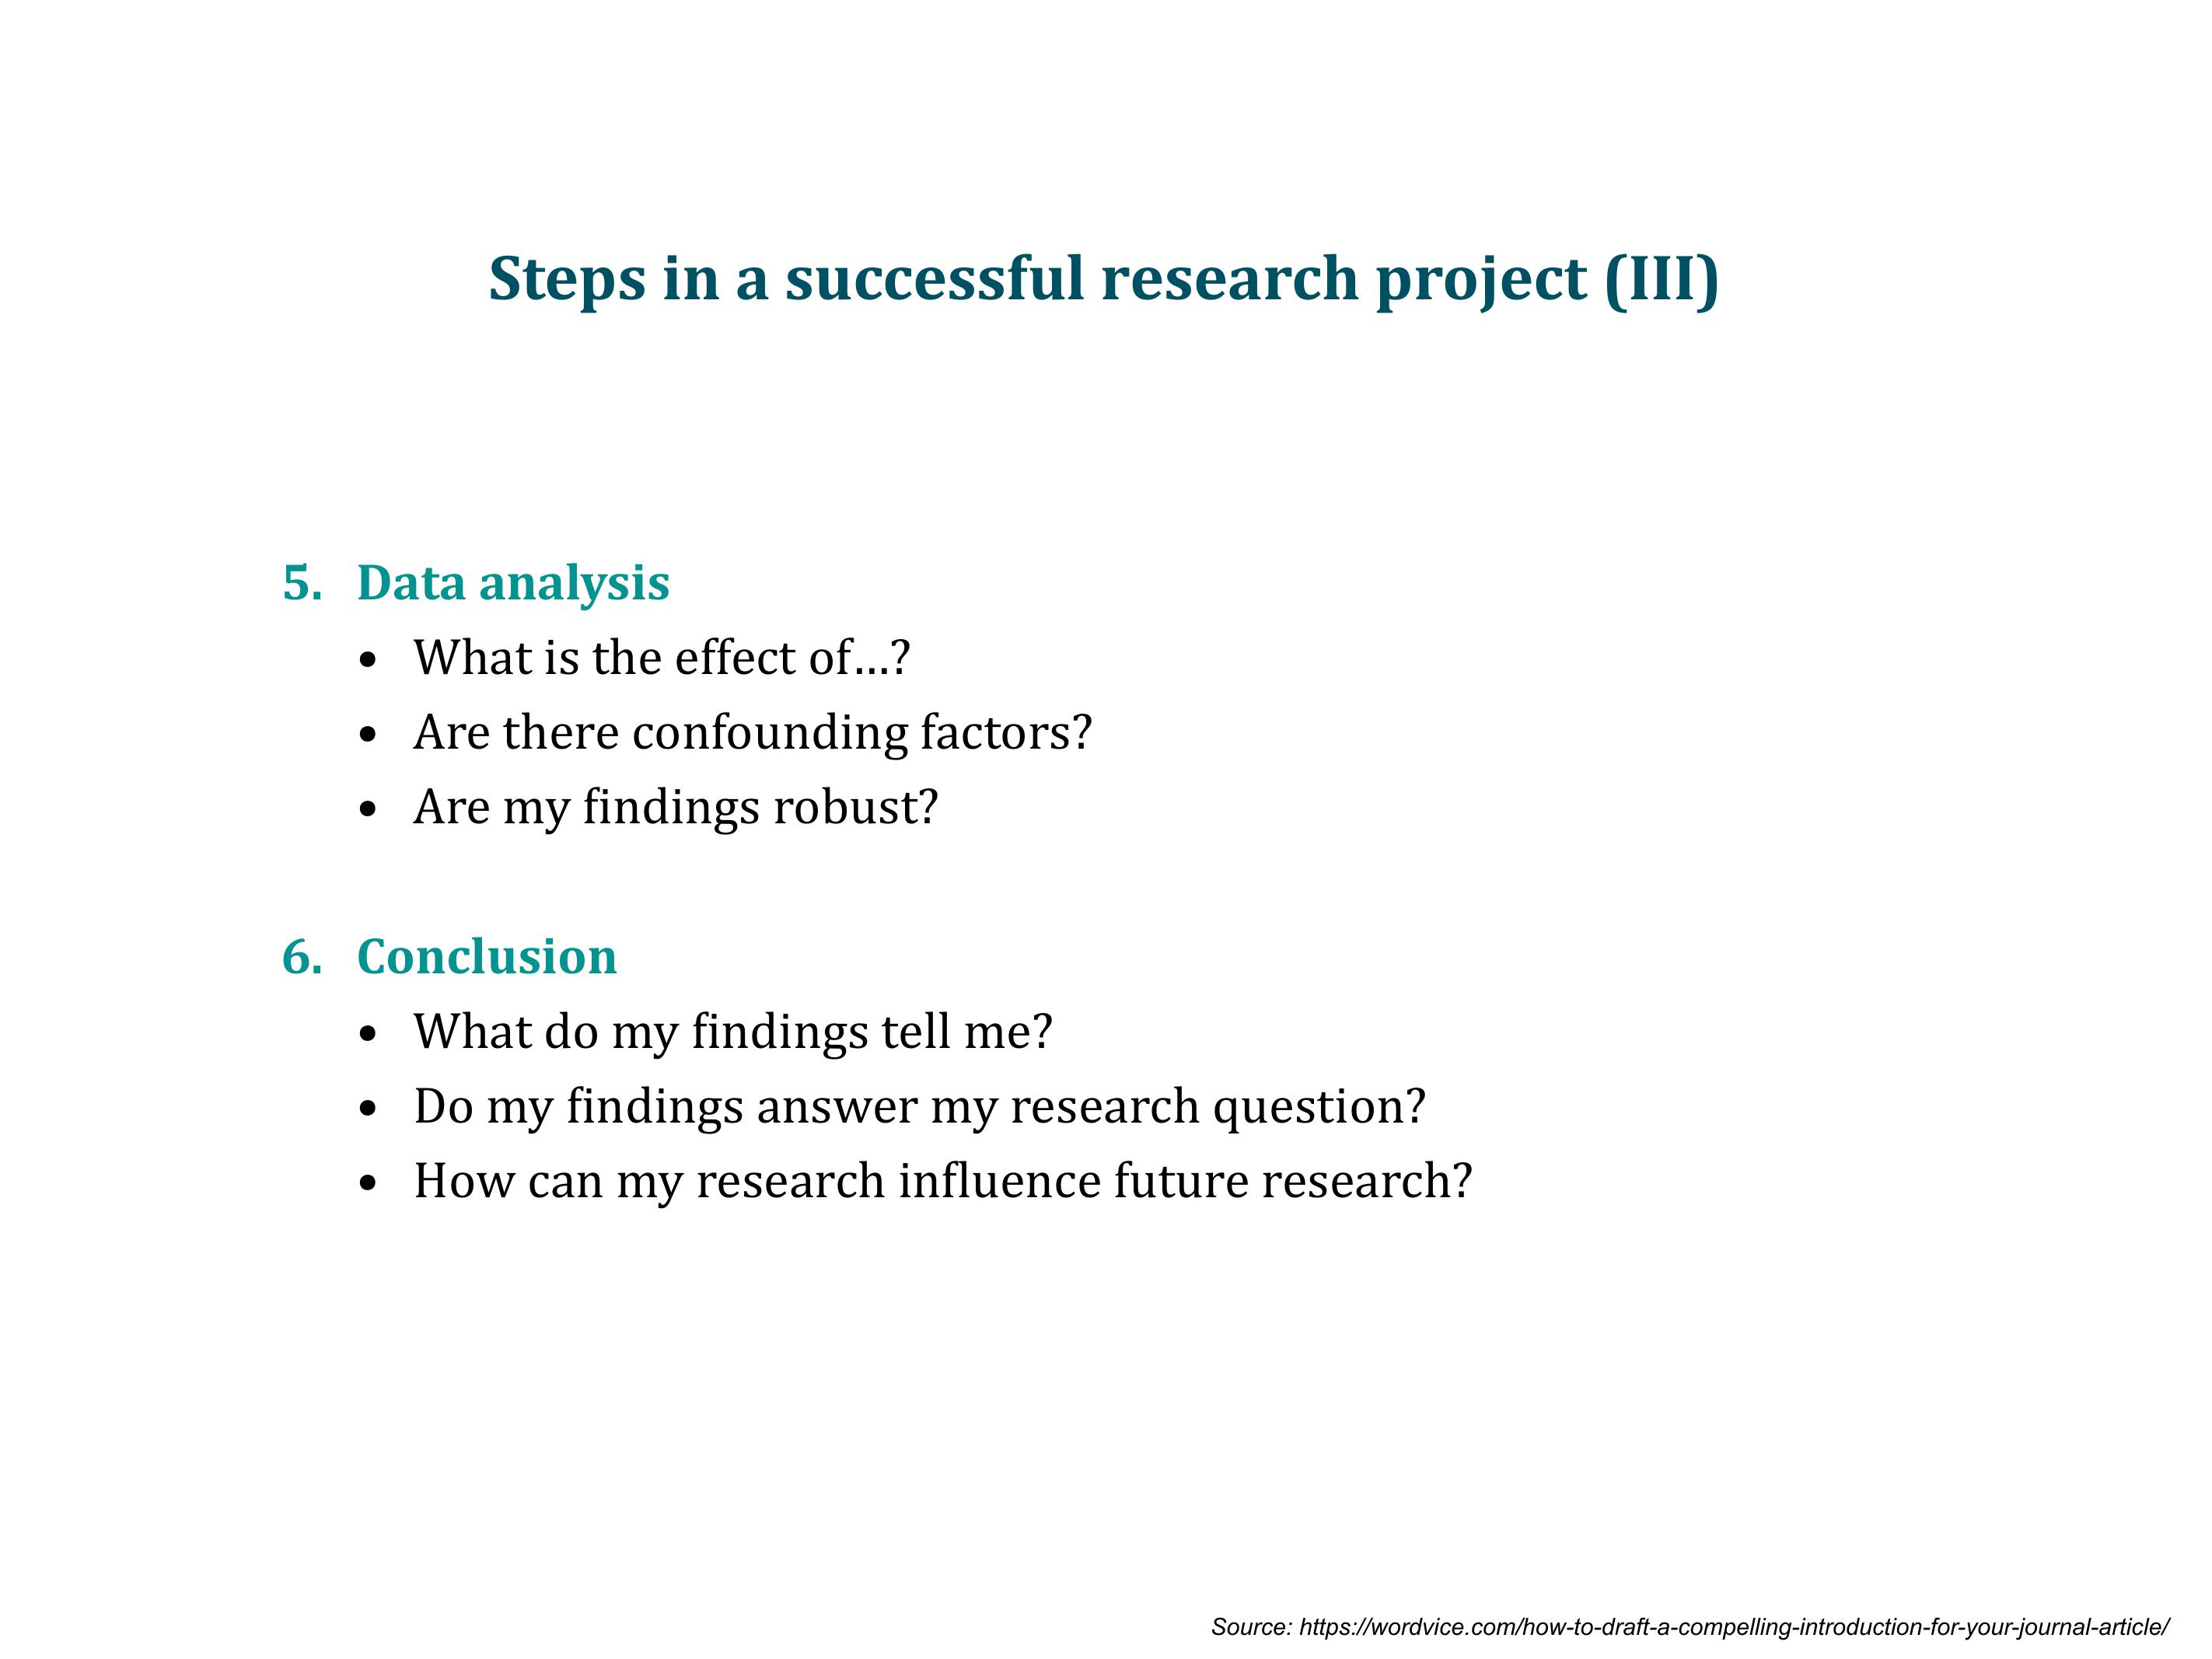Title: (474, 237, 1741, 343)
